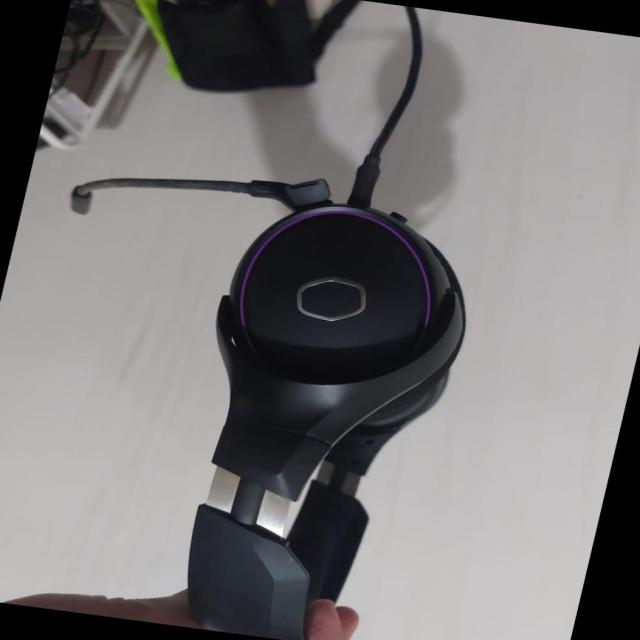earphone: (154, 75, 499, 640)
